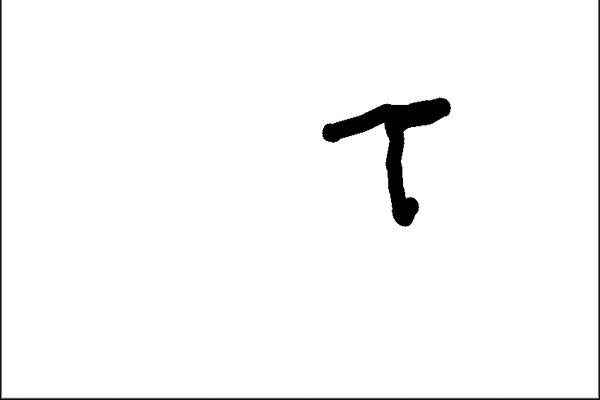T: (315, 86, 462, 233)
